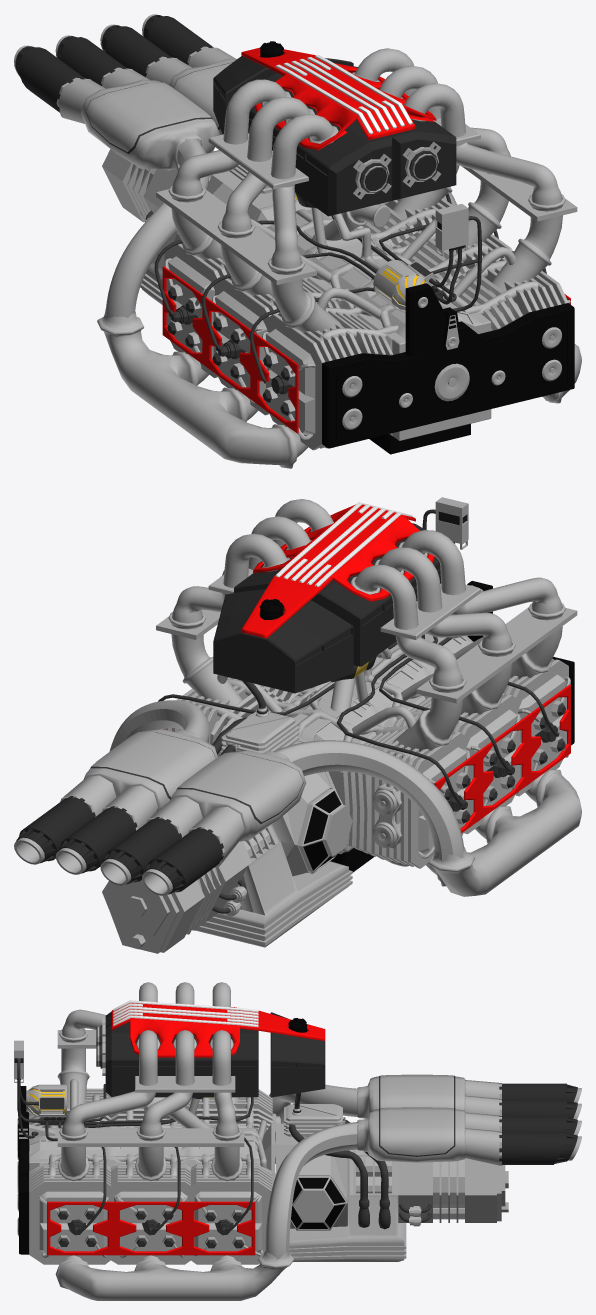
3 views of the same model, one above another, from view 1: azimuth 30°, elevation 25°; view 2: azimuth 150°, elevation 25°; view 3: azimuth 270°, elevation 25° (orthographic). The views are drawn at different scales.
Parts seen in each view (by area): view 1: Object_15, Object_14, Object_7, Object_21, Object_10, Object_12, Object_11, Object_13, Object_18, Object_4, Object_8, Object_22 (+3 smaller); view 2: Object_15, Object_21, Object_14, Object_10, Object_13, Object_12, Object_11, Object_4, Object_18, Object_8, Object_22, Object_9 (+2 smaller); view 3: Object_15, Object_21, Object_11, Object_10, Object_13, Object_18, Object_14, Object_8, Object_12, Object_4, Object_22, Object_7 (+2 smaller).
Boxes of the visible parts, bbox=[...] form: Object_15: bbox=[58, 14, 581, 450]; Object_14: bbox=[14, 35, 510, 468]; Object_7: bbox=[322, 283, 574, 448]; Object_21: bbox=[15, 15, 456, 216]; Object_10: bbox=[59, 48, 577, 449]; Object_12: bbox=[168, 164, 559, 463]; Object_11: bbox=[127, 164, 565, 448]; Object_13: bbox=[102, 149, 568, 324]; Object_18: bbox=[85, 62, 546, 415]; Object_4: bbox=[241, 47, 436, 150]; Object_8: bbox=[162, 266, 570, 433]; Object_22: bbox=[275, 55, 412, 134]; Object_15: bbox=[14, 499, 568, 874]; Object_21: bbox=[16, 523, 441, 894]; Object_14: bbox=[60, 570, 581, 896]; Object_10: bbox=[104, 607, 577, 953]; Object_13: bbox=[102, 497, 482, 952]; Object_12: bbox=[168, 576, 565, 881]; Object_11: bbox=[131, 659, 554, 953]; Object_4: bbox=[241, 504, 434, 638]; Object_18: bbox=[89, 509, 565, 913]; Object_8: bbox=[164, 684, 570, 833]; Object_22: bbox=[275, 502, 412, 586]; Object_9: bbox=[260, 599, 374, 872]; Object_15: bbox=[29, 982, 581, 1300]; Object_21: bbox=[105, 1011, 577, 1164]; Object_11: bbox=[17, 1090, 508, 1261]; Object_10: bbox=[18, 1030, 404, 1264]; Object_13: bbox=[14, 1040, 496, 1264]; Object_18: bbox=[16, 1025, 455, 1248]; Object_14: bbox=[29, 1083, 581, 1254]; Object_8: bbox=[47, 1201, 255, 1255]; Object_12: bbox=[57, 1030, 342, 1260]; Object_4: bbox=[111, 1003, 325, 1057]; Object_22: bbox=[113, 1000, 258, 1027]; Object_7: bbox=[17, 1086, 28, 1254].
Size of the model in its own units: 923 by 729 by 1585.
